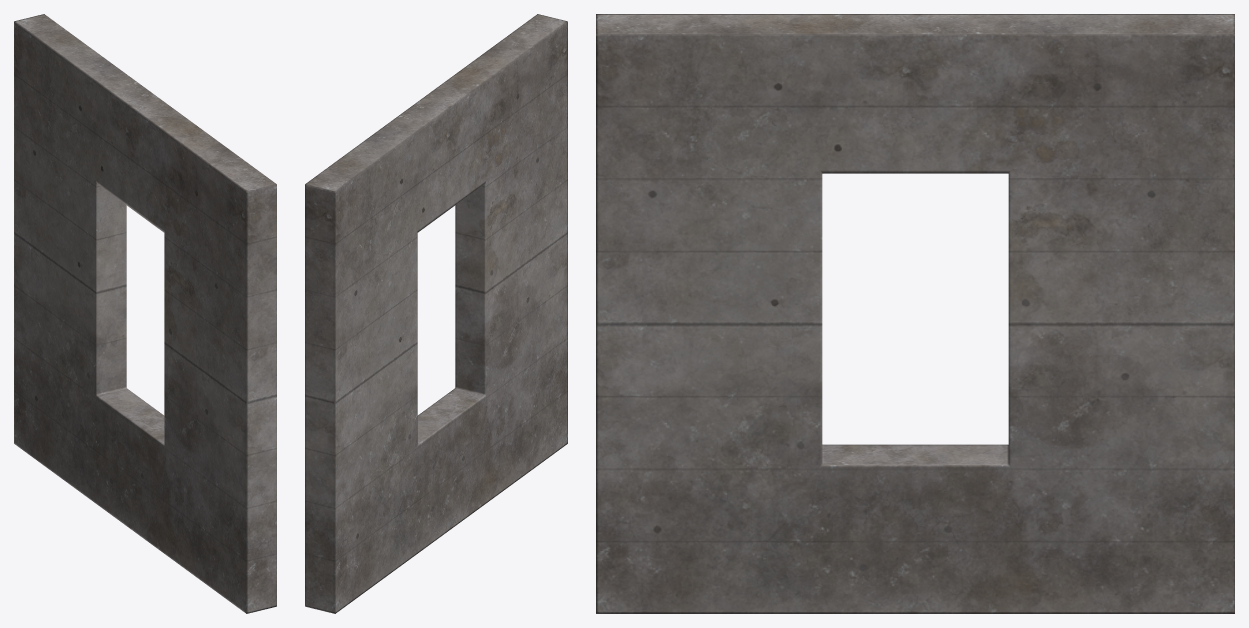
Rendered from Con_ConcreteWall04.fbx.
3 renders of one model, left to right at view 1: azimuth 30°, elevation 25°; view 2: azimuth 150°, elevation 25°; view 3: azimuth 270°, elevation 25°, orthographic. The views are drawn at different scales.
Parts seen in each view (by area): view 1: SM_ConcreteWall04; view 2: SM_ConcreteWall04; view 3: SM_ConcreteWall04.
Part boxes in pixels (x1,y1,x2,y2): SM_ConcreteWall04: [14, 14, 276, 613]; SM_ConcreteWall04: [305, 14, 567, 613]; SM_ConcreteWall04: [596, 14, 1234, 613].
Size of the model in its own units: 0.3003 by 4 by 4.
Materials: 1 (1 with a texture image).
